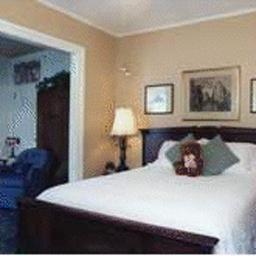Armario: (36, 84, 69, 184)
Cama: (16, 137, 252, 247)
